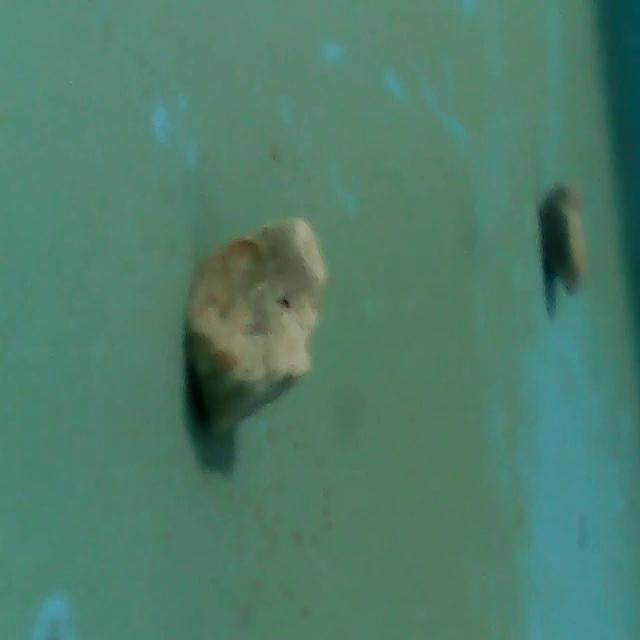rock: (178, 212, 328, 456)
